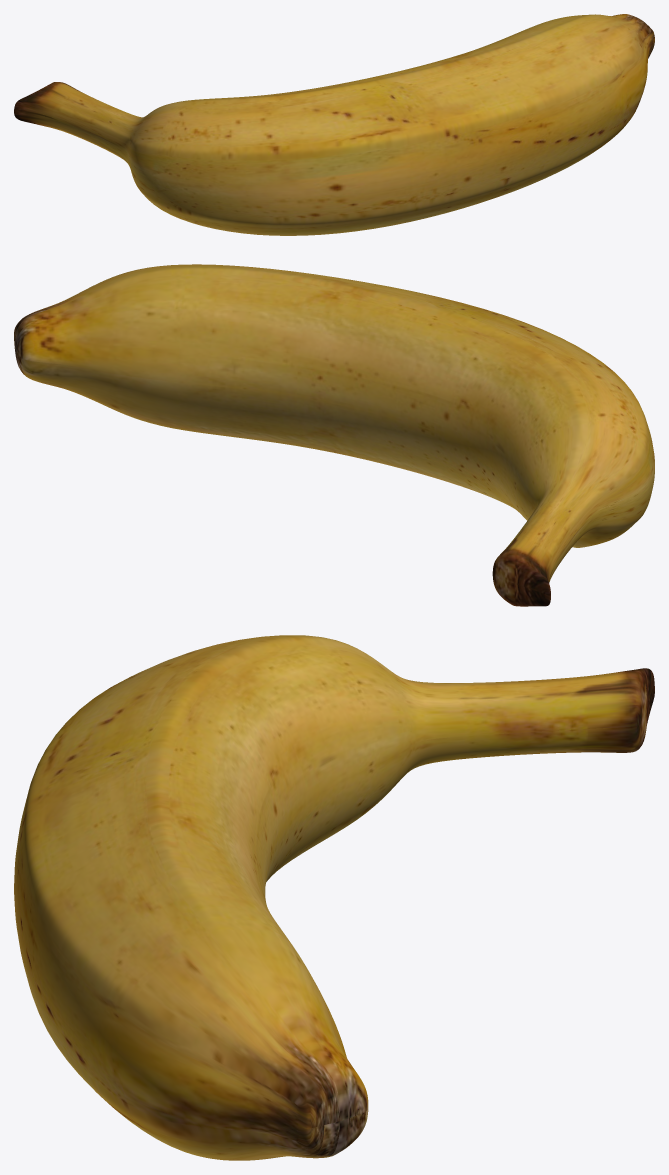
File: banana-small.dae
3 views of the same model, one above another, from view 1: azimuth 30°, elevation 25°; view 2: azimuth 150°, elevation 25°; view 3: azimuth 270°, elevation 25° (orthographic). The views are drawn at different scales.
Parts seen in each view (by area): view 1: Banana; view 2: Banana; view 3: Banana.
Part boxes in pixels (x1,y1,x2,y2): Banana: (14, 14, 654, 235); Banana: (14, 264, 654, 606); Banana: (14, 635, 654, 1160).
Bounding box in the file's own units: 0.2285 × 0.0555 × 0.133.
Materials: 1 (1 with a texture image).
